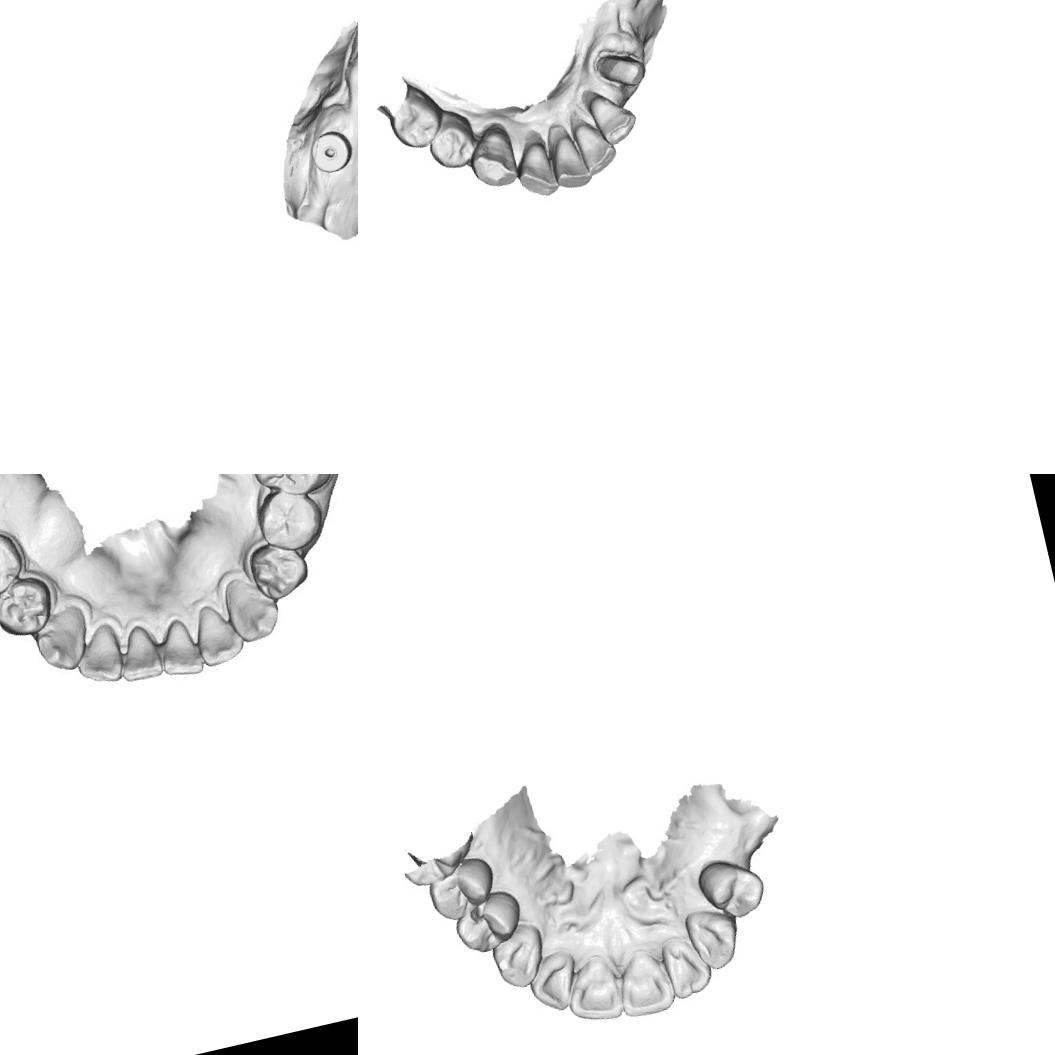canine: (28, 601, 98, 679), (462, 117, 524, 195), (224, 573, 288, 648), (486, 920, 551, 992), (682, 902, 746, 974)
crown: (591, 43, 650, 98)
implant: (304, 124, 358, 178)
incisor: (611, 944, 679, 1020), (559, 954, 626, 1028), (185, 596, 248, 672), (68, 620, 128, 690), (524, 947, 584, 1016), (658, 932, 716, 1001), (152, 613, 207, 682), (584, 85, 642, 150), (112, 621, 166, 687), (509, 135, 562, 202), (570, 116, 622, 180), (545, 130, 596, 192)
molar: (238, 474, 348, 506)
premolar: (250, 482, 330, 560), (421, 851, 504, 925), (693, 850, 771, 926), (448, 887, 528, 959), (244, 536, 316, 606), (0, 570, 62, 643), (384, 86, 448, 156), (420, 107, 485, 175), (0, 527, 28, 602)
